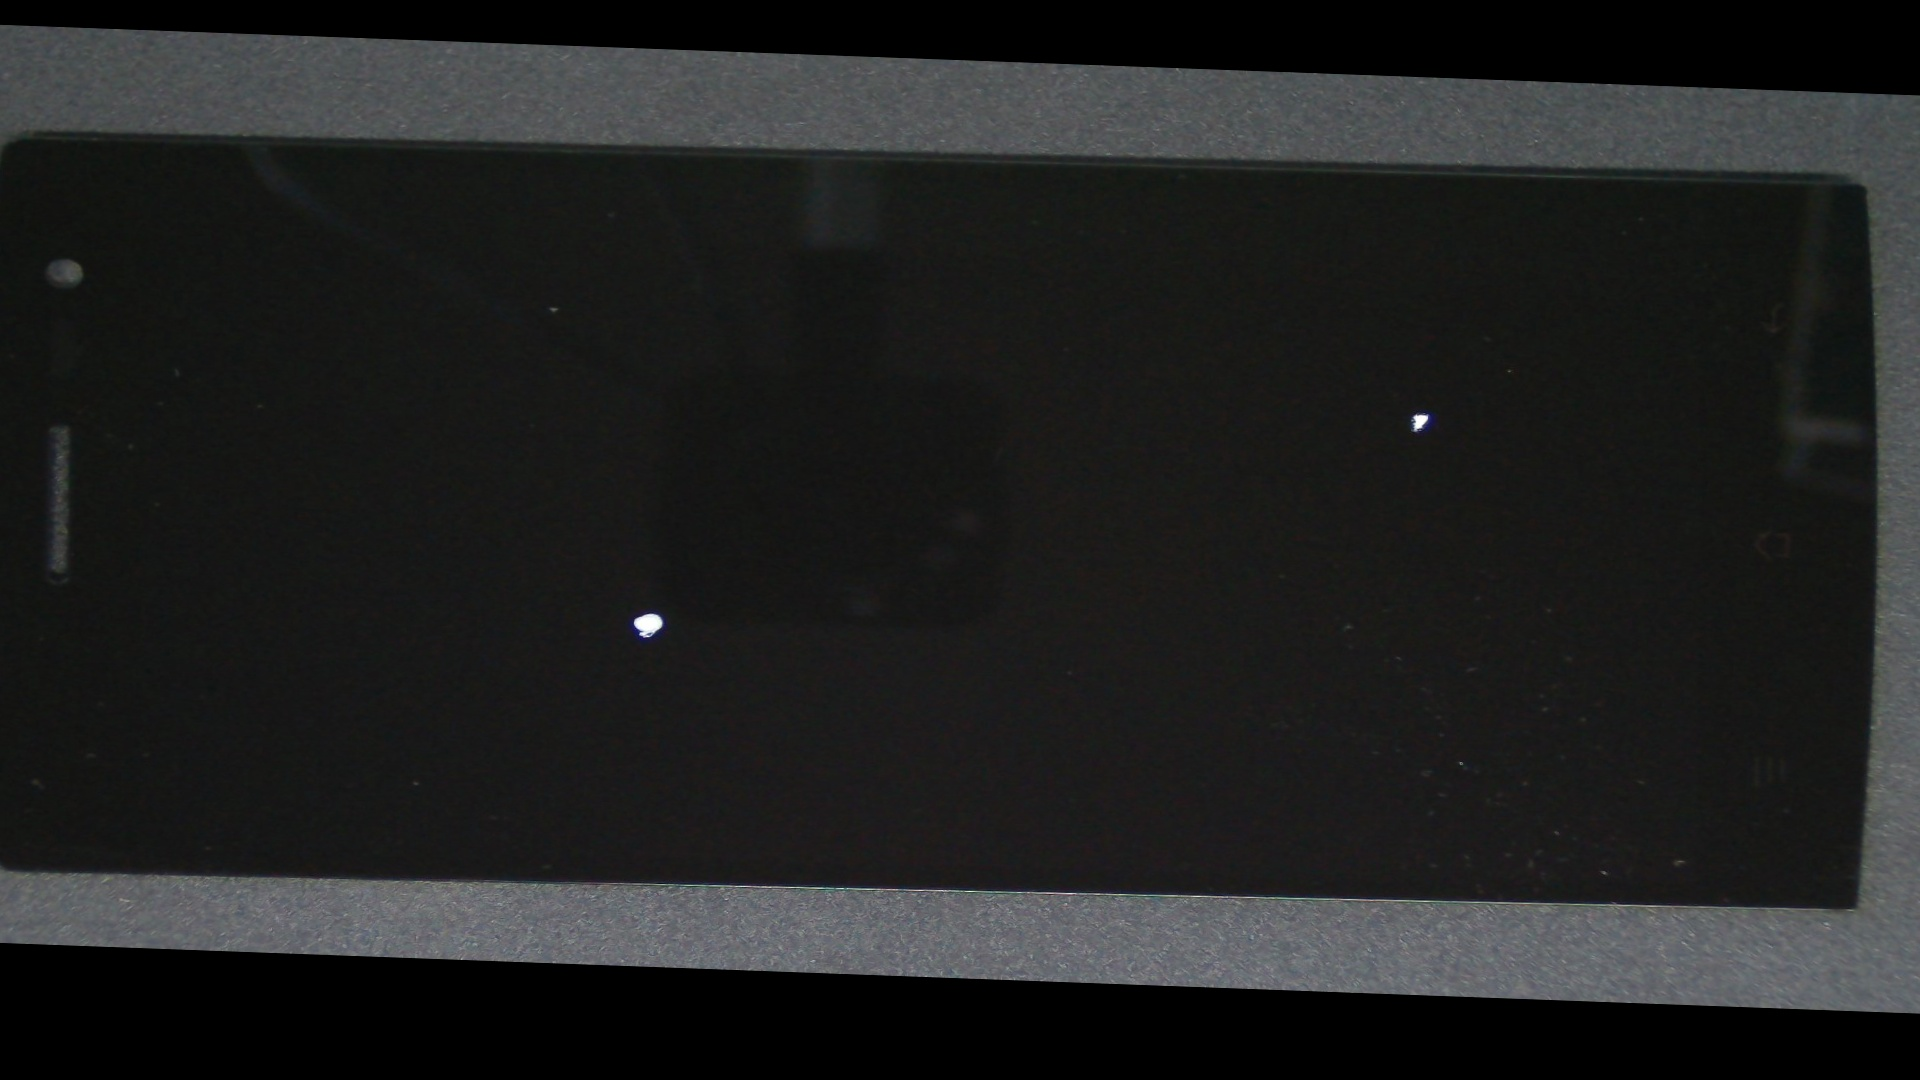oil: (633, 215, 1920, 599), (240, 315, 1062, 907)
